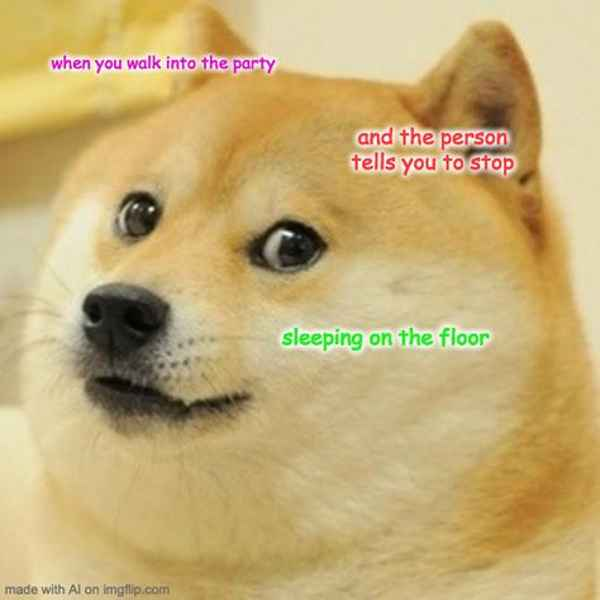doge: (26, 9, 568, 561)
